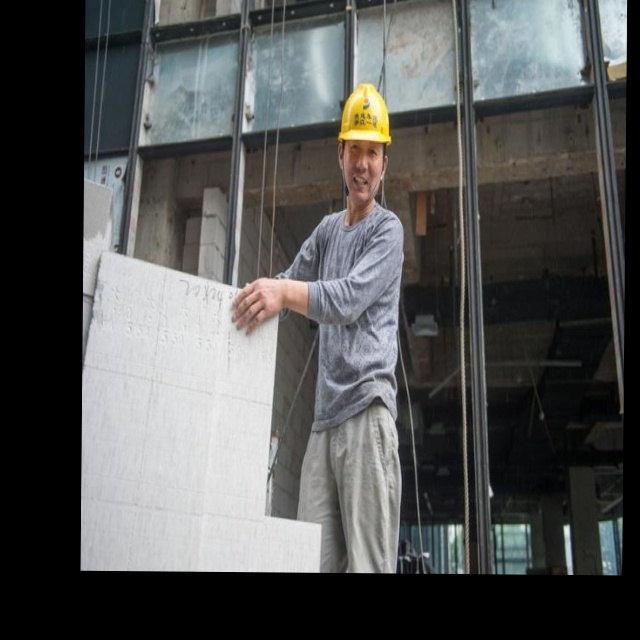Con_Casco: (340, 85, 391, 204)
